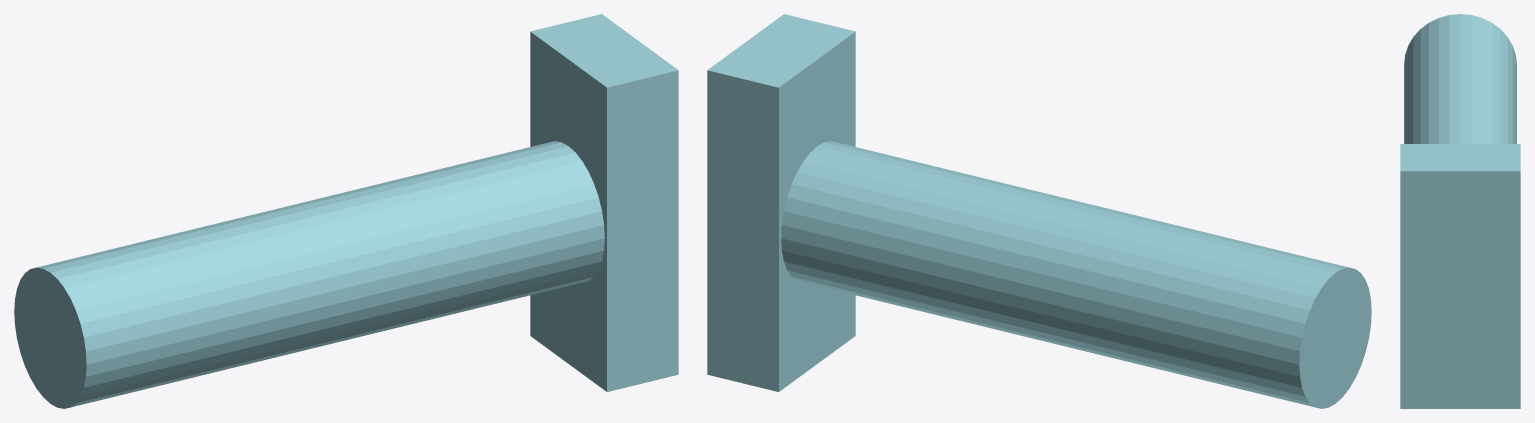
The model's file is cylinder_hammer_v1002.obj.
3 views of the same model, side by side, from view 1: azimuth 30°, elevation 25°; view 2: azimuth 150°, elevation 25°; view 3: azimuth 270°, elevation 25° (orthographic). The views are drawn at different scales.
Bounding box in the file's own units: 0.223 × 0.11 × 0.0503.
Materials: 1 (1 with a texture image).
